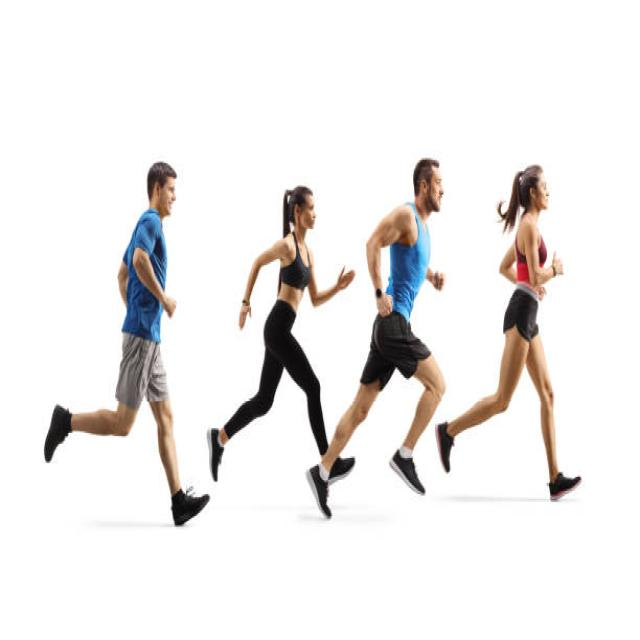Person: (44, 161, 210, 527), (305, 160, 447, 520), (436, 164, 581, 503), (206, 184, 354, 482)
